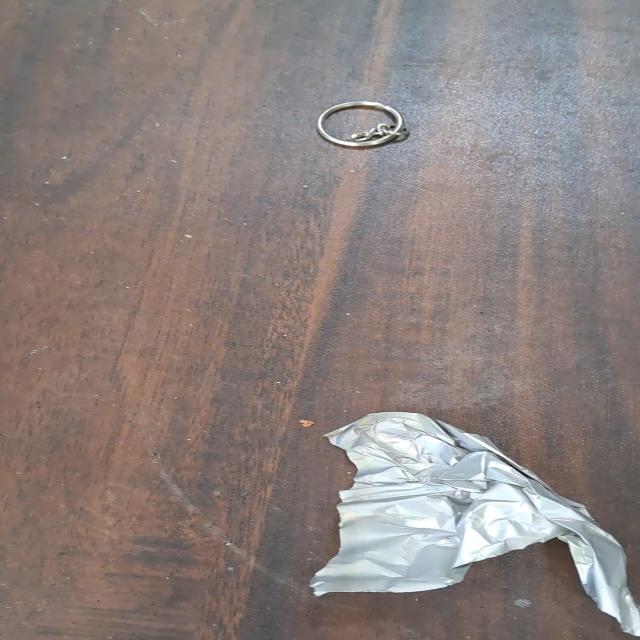Anorganik: (302, 405, 640, 640), (302, 90, 421, 155)
